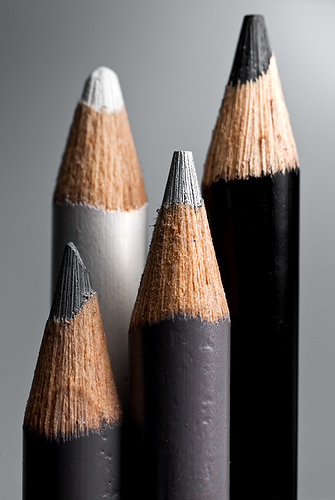pen_tip: (18, 241, 127, 468), (133, 149, 239, 338), (205, 9, 308, 202)
